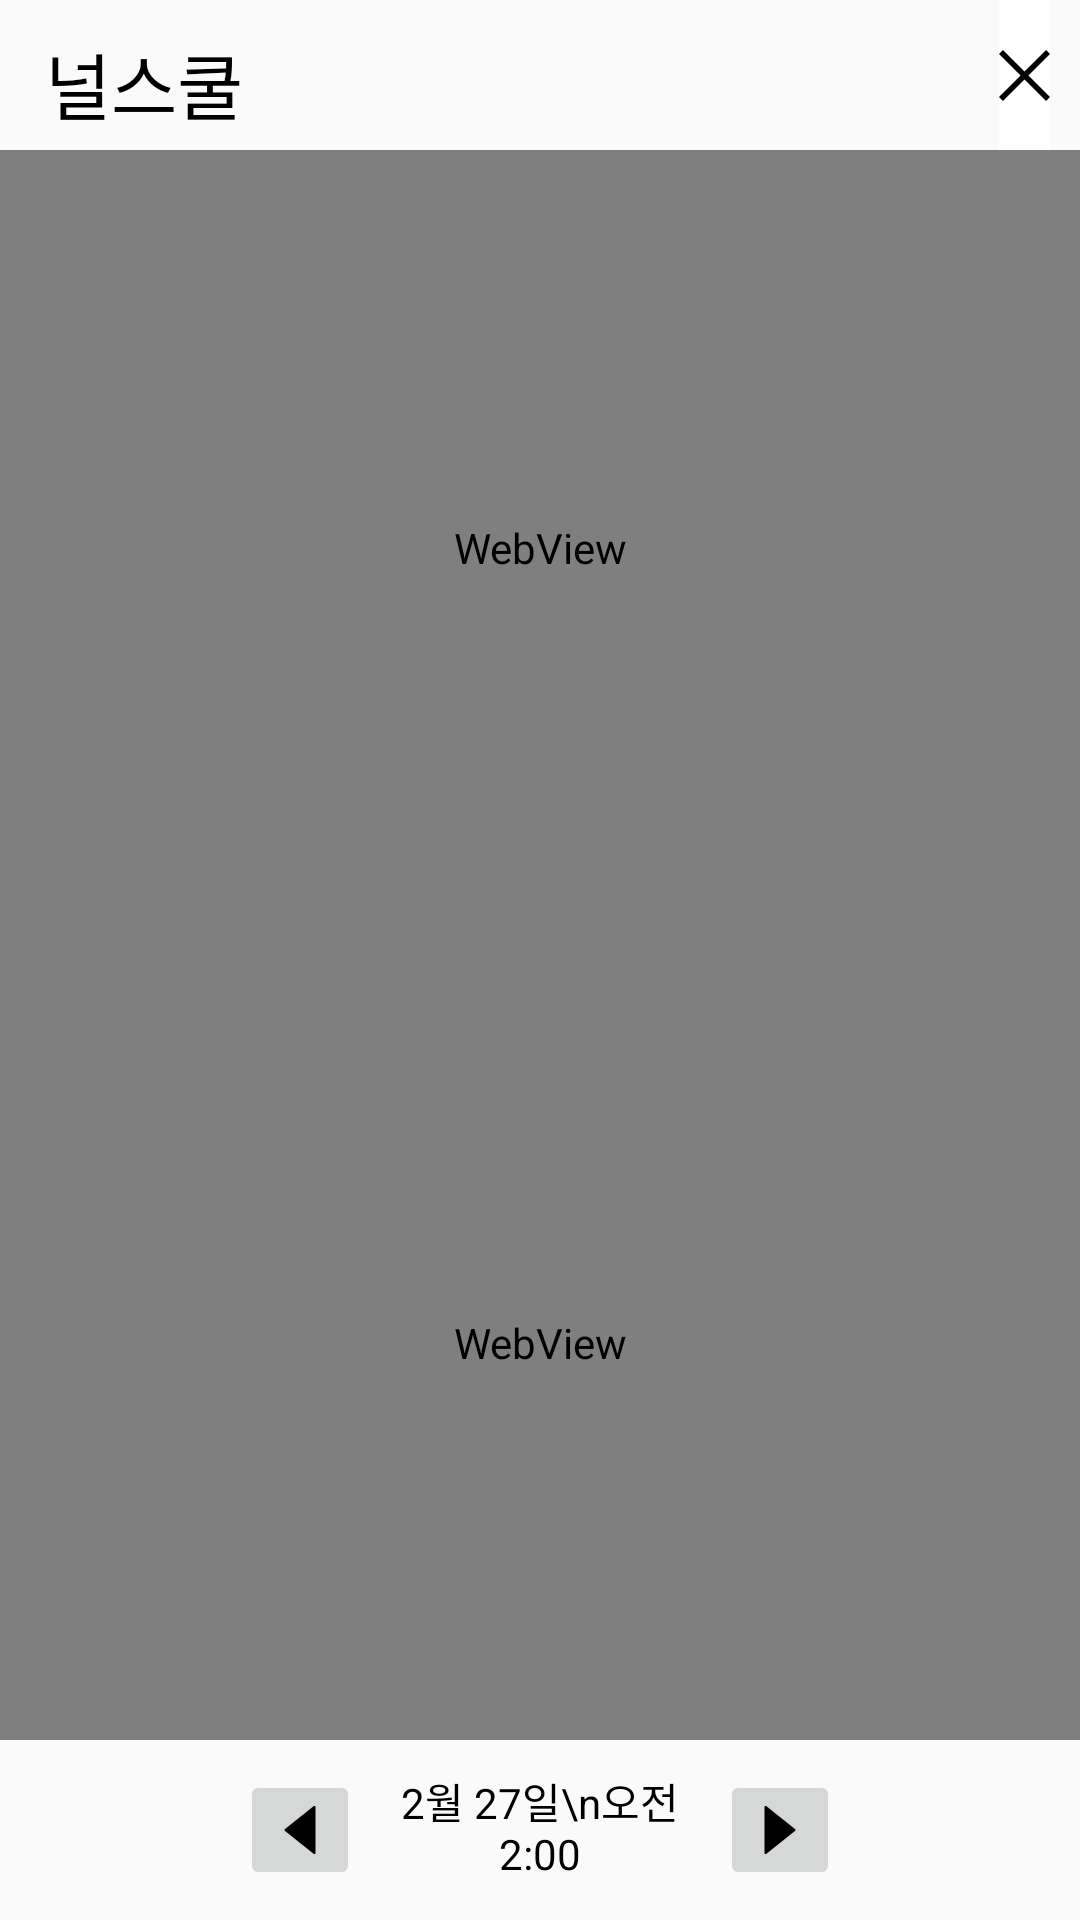

Named icons in this screenshot (1080x1920) and their centers, (x,y):
cancel: (1024,75)
left: (300,1830)
right: (780,1830)
